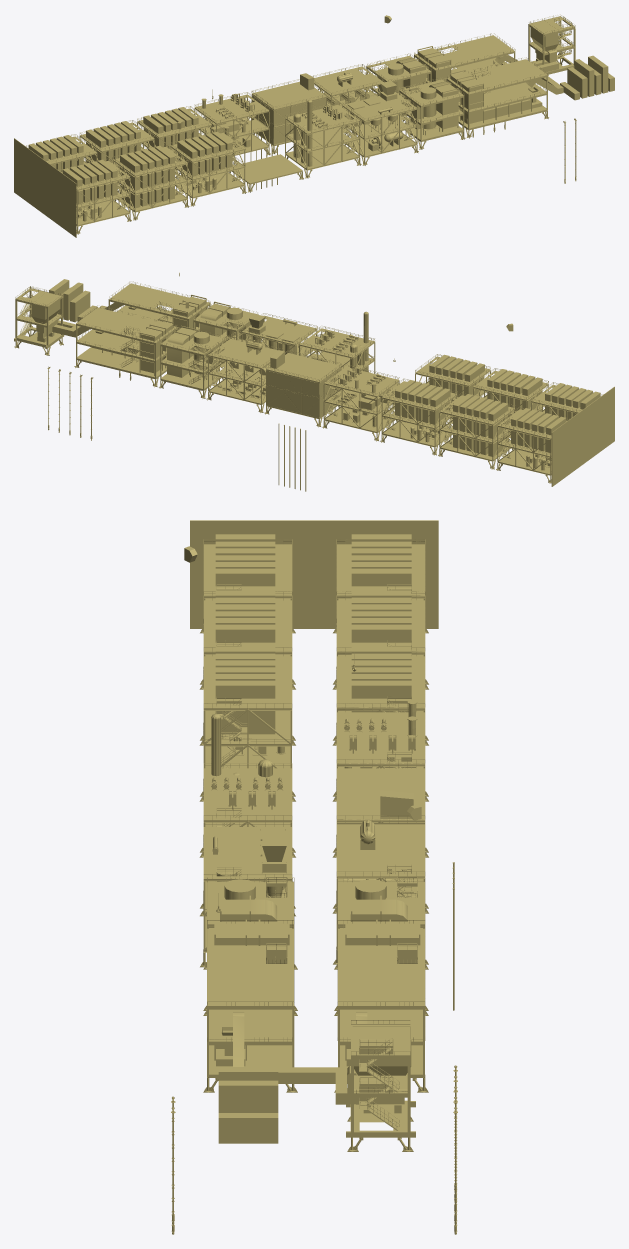
File: compressed_1760448646502_05b-SEA LOTUS ELECTROLYSER HULL-Topside-Process-Electrolyser and wte.glb
3 renders of one model, top to bottom at view 1: azimuth 30°, elevation 25°; view 2: azimuth 150°, elevation 25°; view 3: azimuth 270°, elevation 25°, orthographic. The views are drawn at different scales.
Visible parts, largest first — view 1: ACPPSTRUCTURERAILING.337; view 2: ACPPSTRUCTURERAILING.337; view 3: ACPPSTRUCTURERAILING.337.
Part boxes in pixels (<box>): ACPPSTRUCTURERAILING.337: <box>14,14,614,237</box>; ACPPSTRUCTURERAILING.337: <box>14,272,614,491</box>; ACPPSTRUCTURERAILING.337: <box>171,520,457,1234</box>.
Bounding box in the file's own units: 257 × 68.13 × 58.54.
